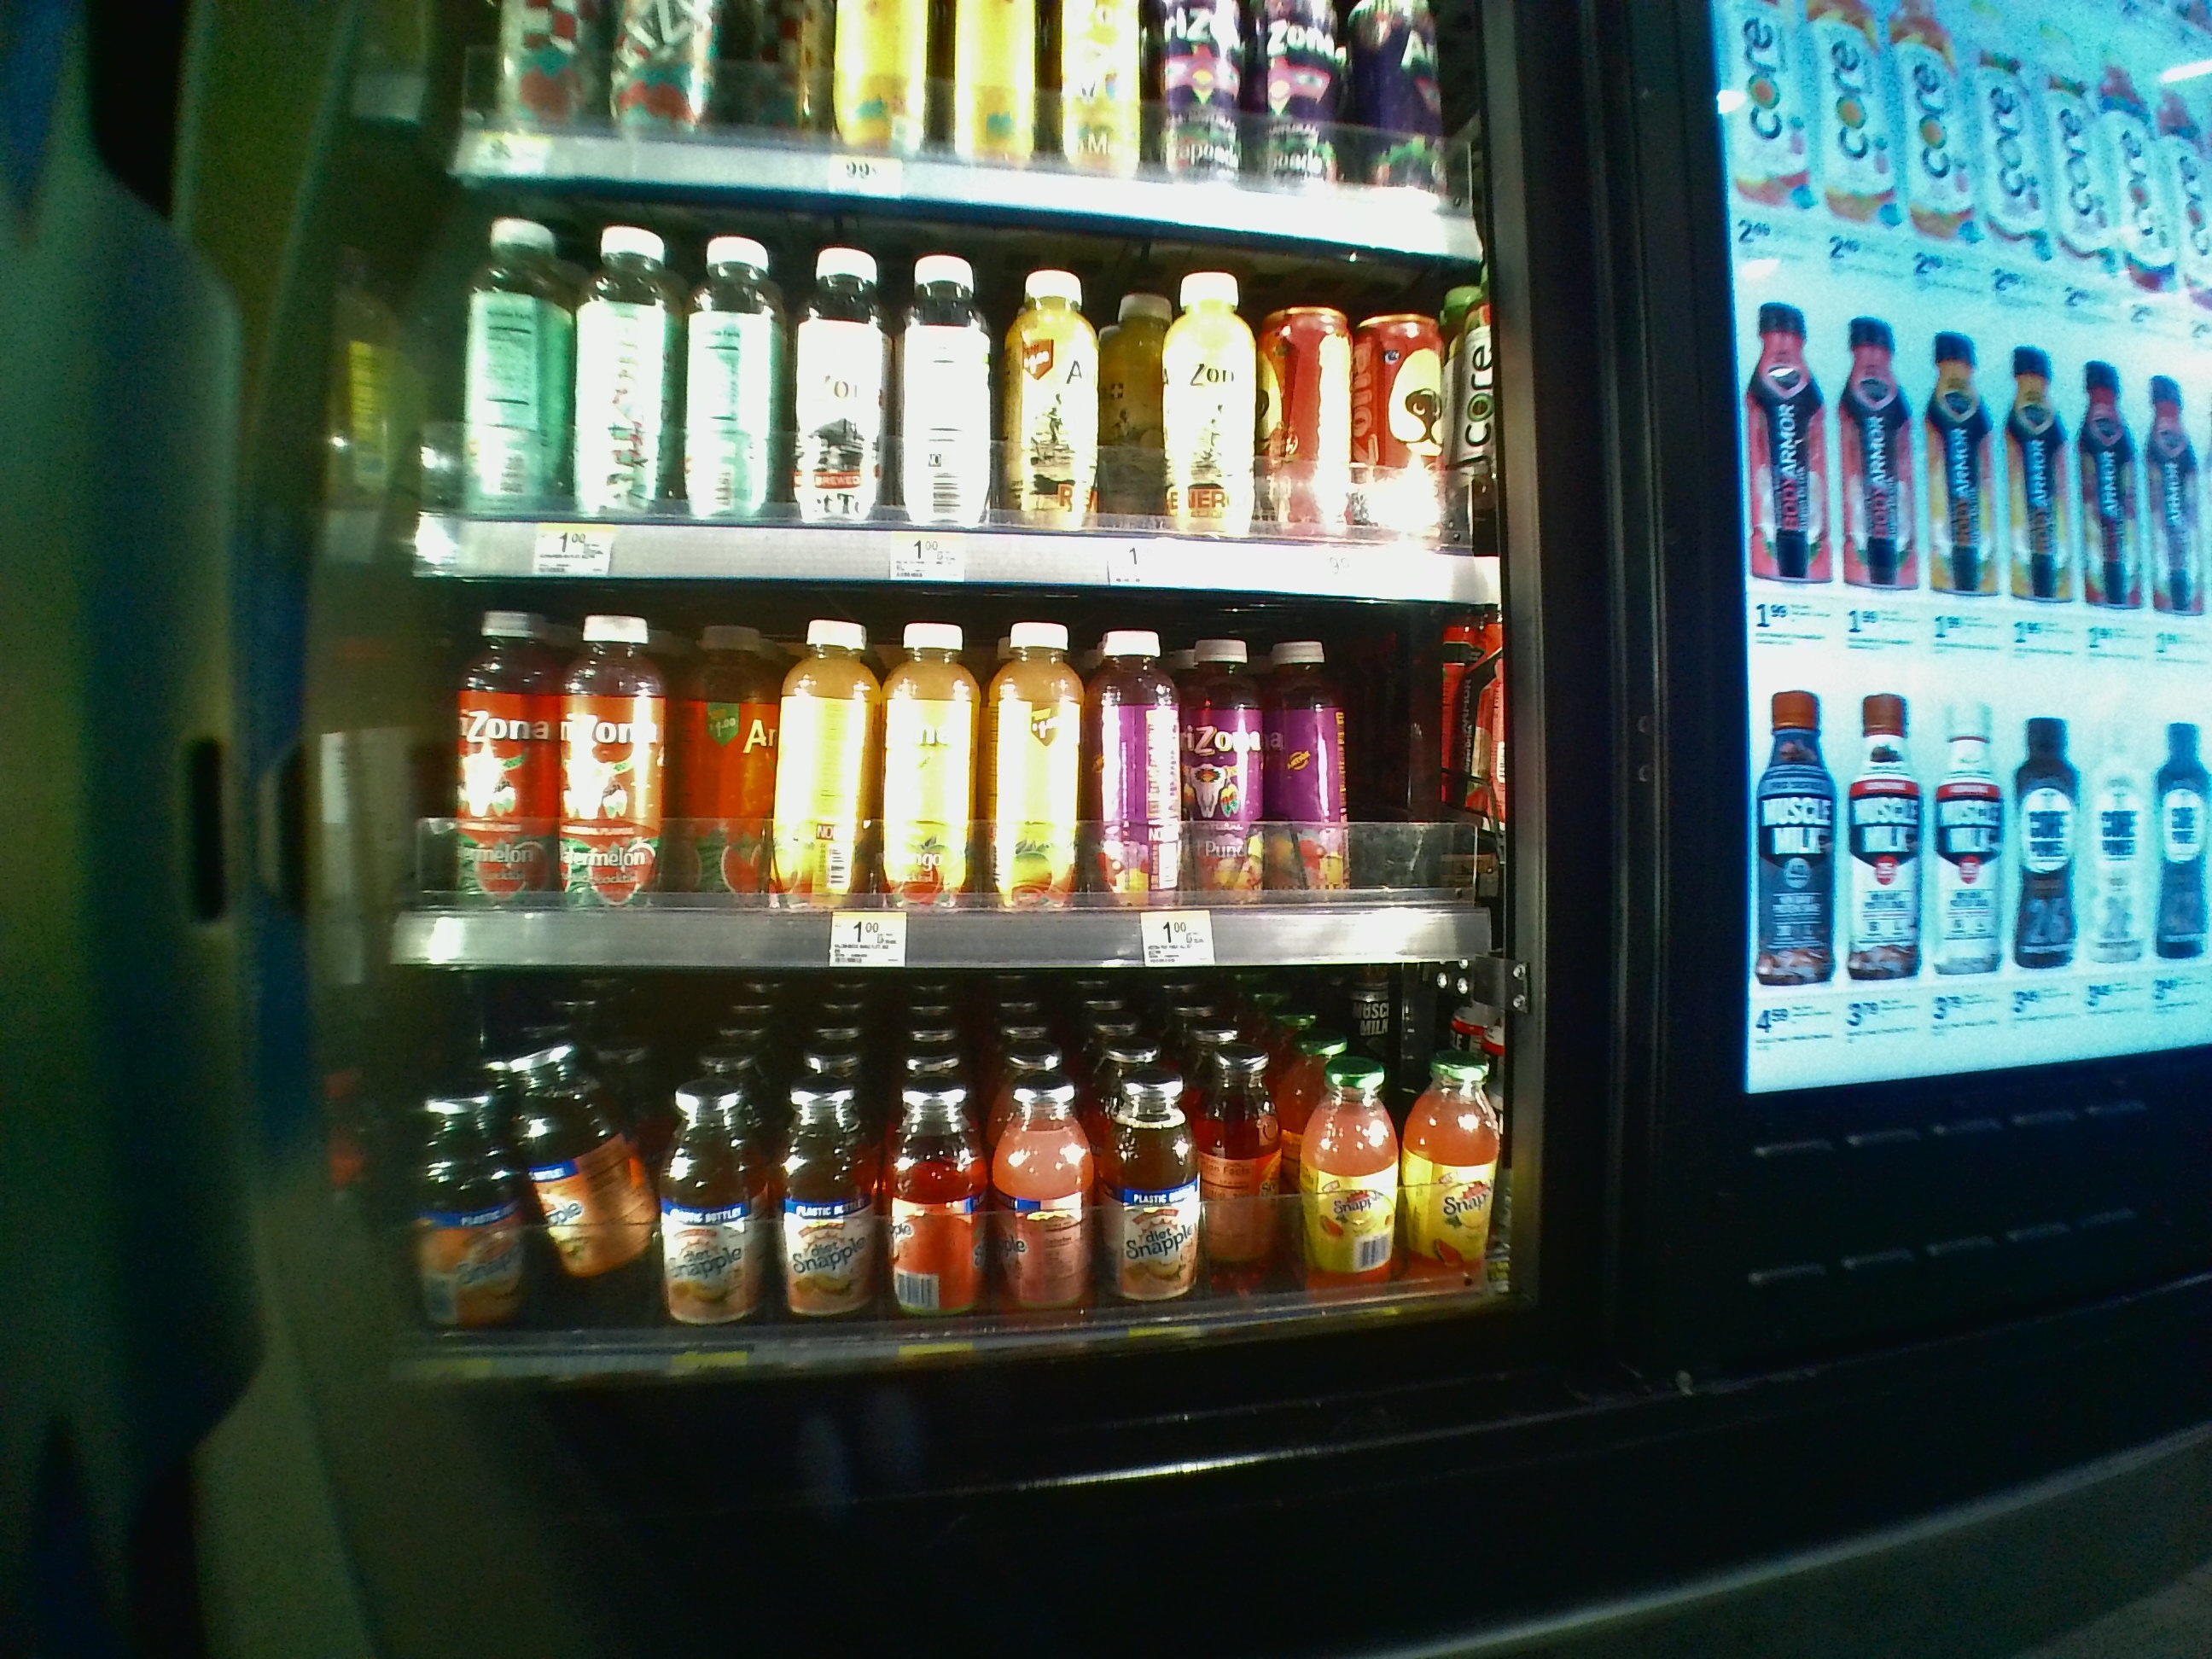shelf: (381, 978, 1514, 1373), (383, 575, 1505, 962)
